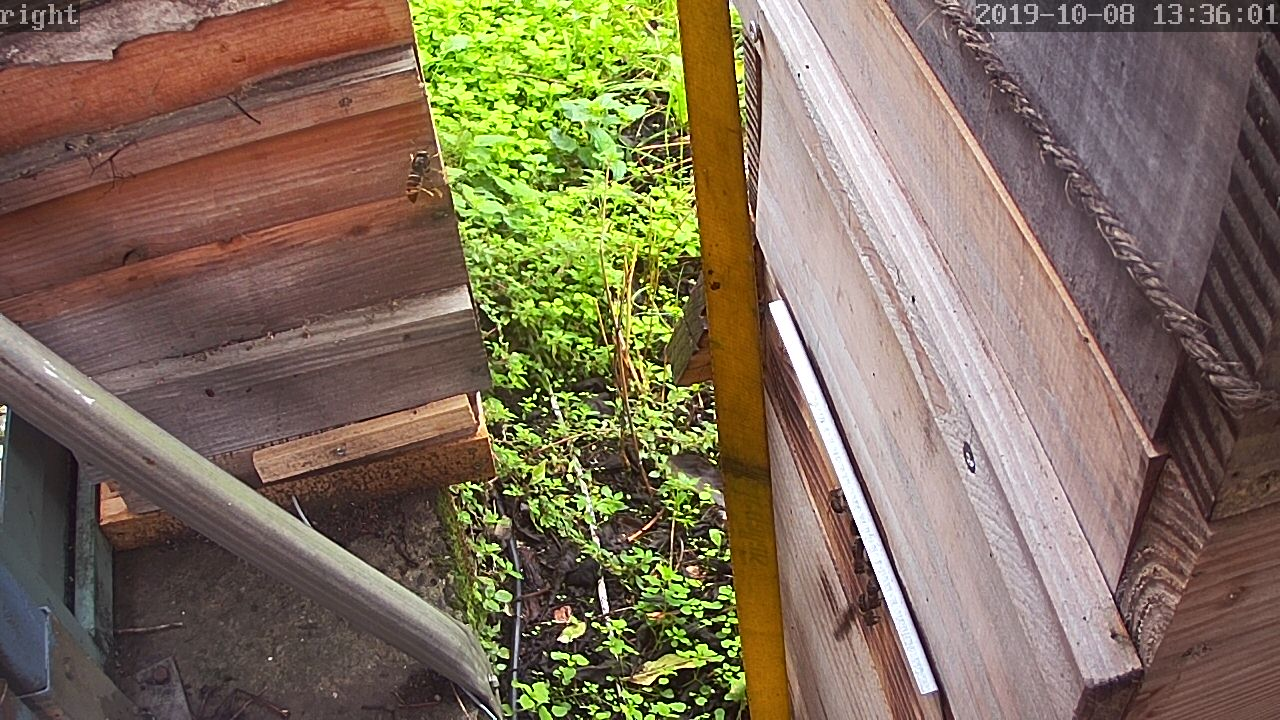bee: (849, 575, 894, 629), (812, 481, 855, 531), (841, 536, 872, 581)
hornet: (401, 149, 445, 202)
